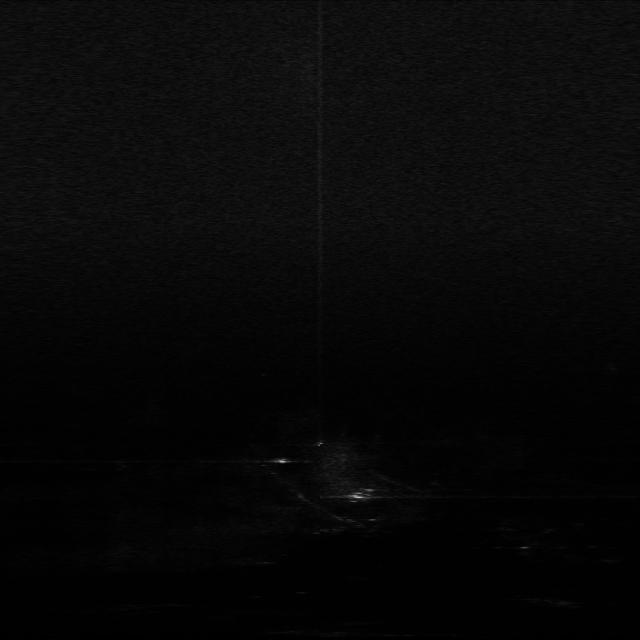rov: (347, 487, 381, 501)
